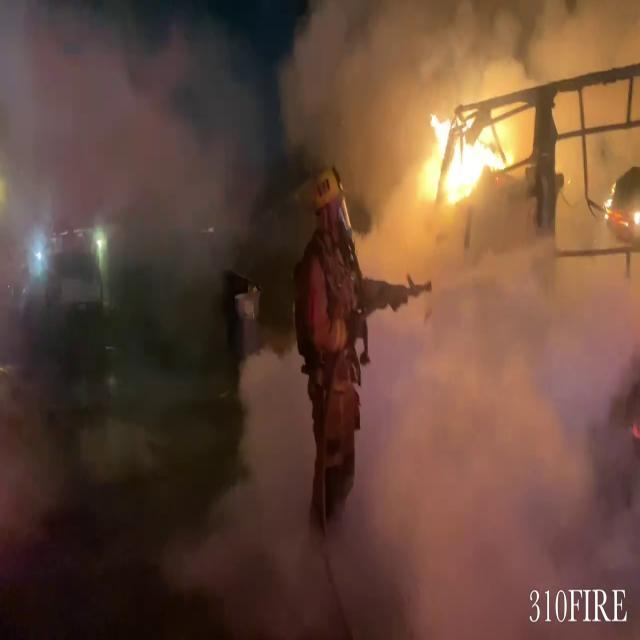Fire: (412, 94, 520, 209)
Smoke: (0, 1, 290, 270)
